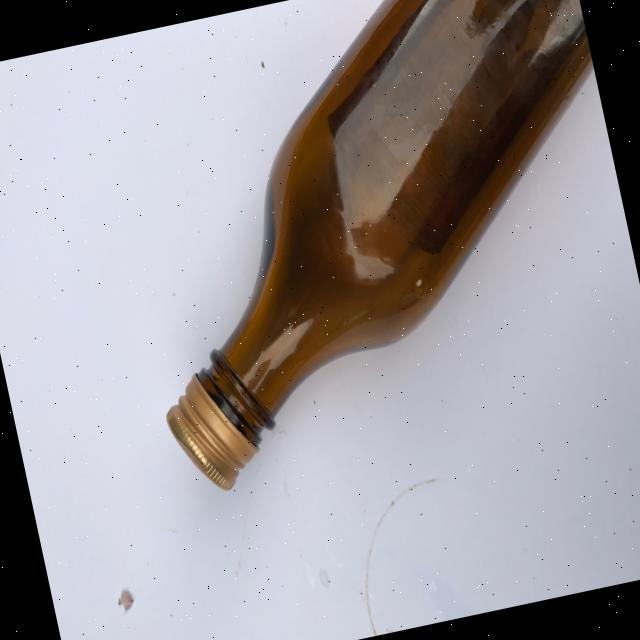glass: (85, 0, 640, 500)
